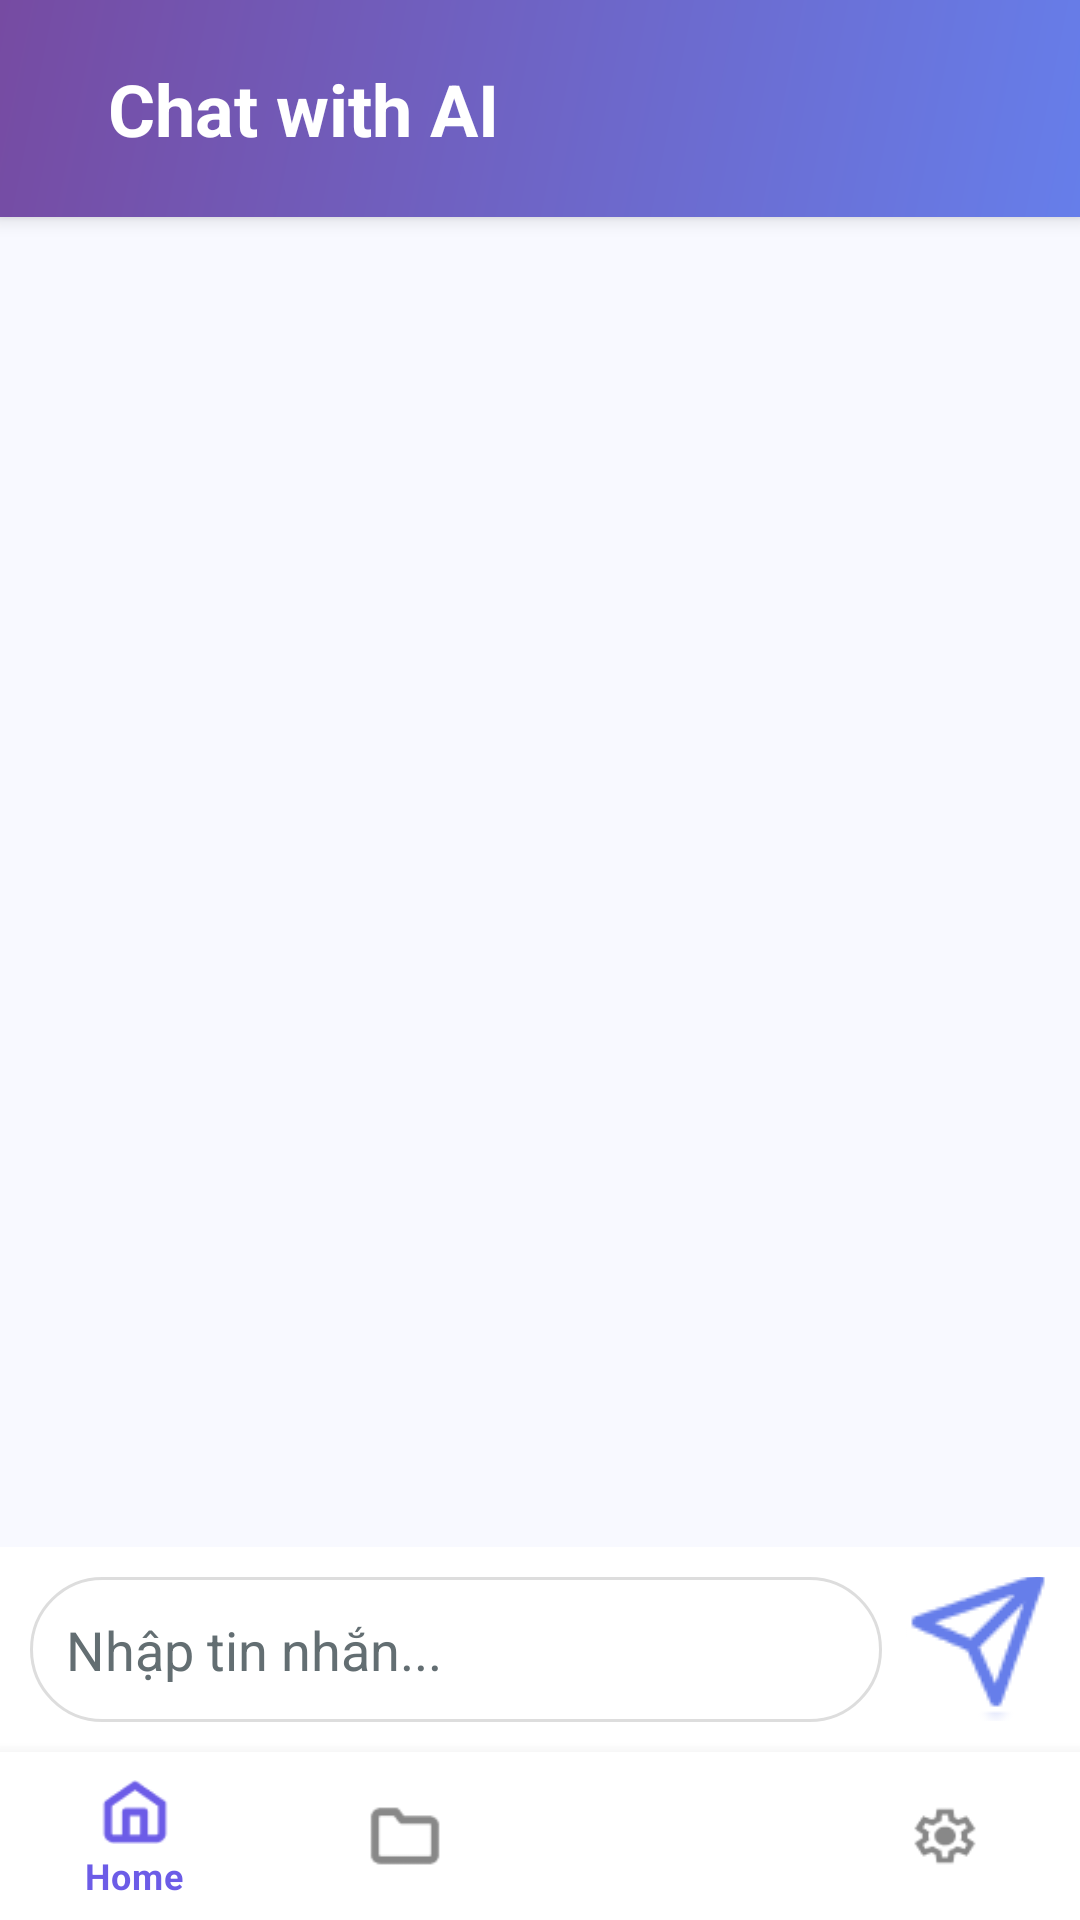

Icon click points for this 1080px x 1920px phone screenshot, format [x,y]:
send: [978,1642]
